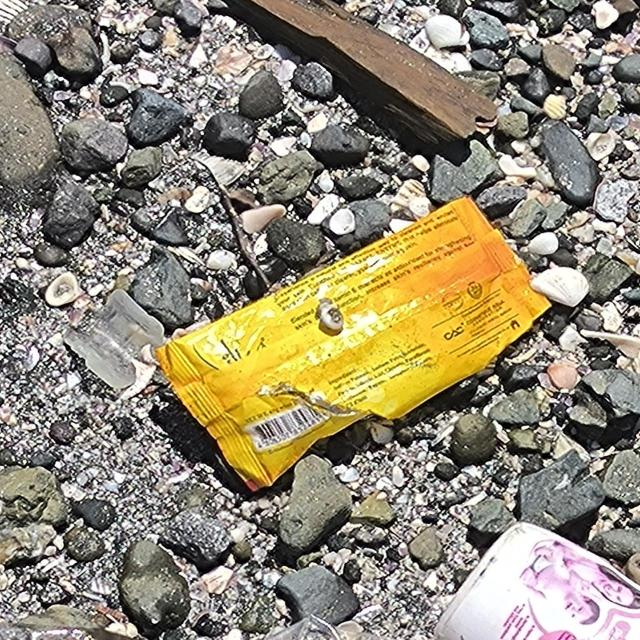plastic_waste: (155, 193, 555, 494)
